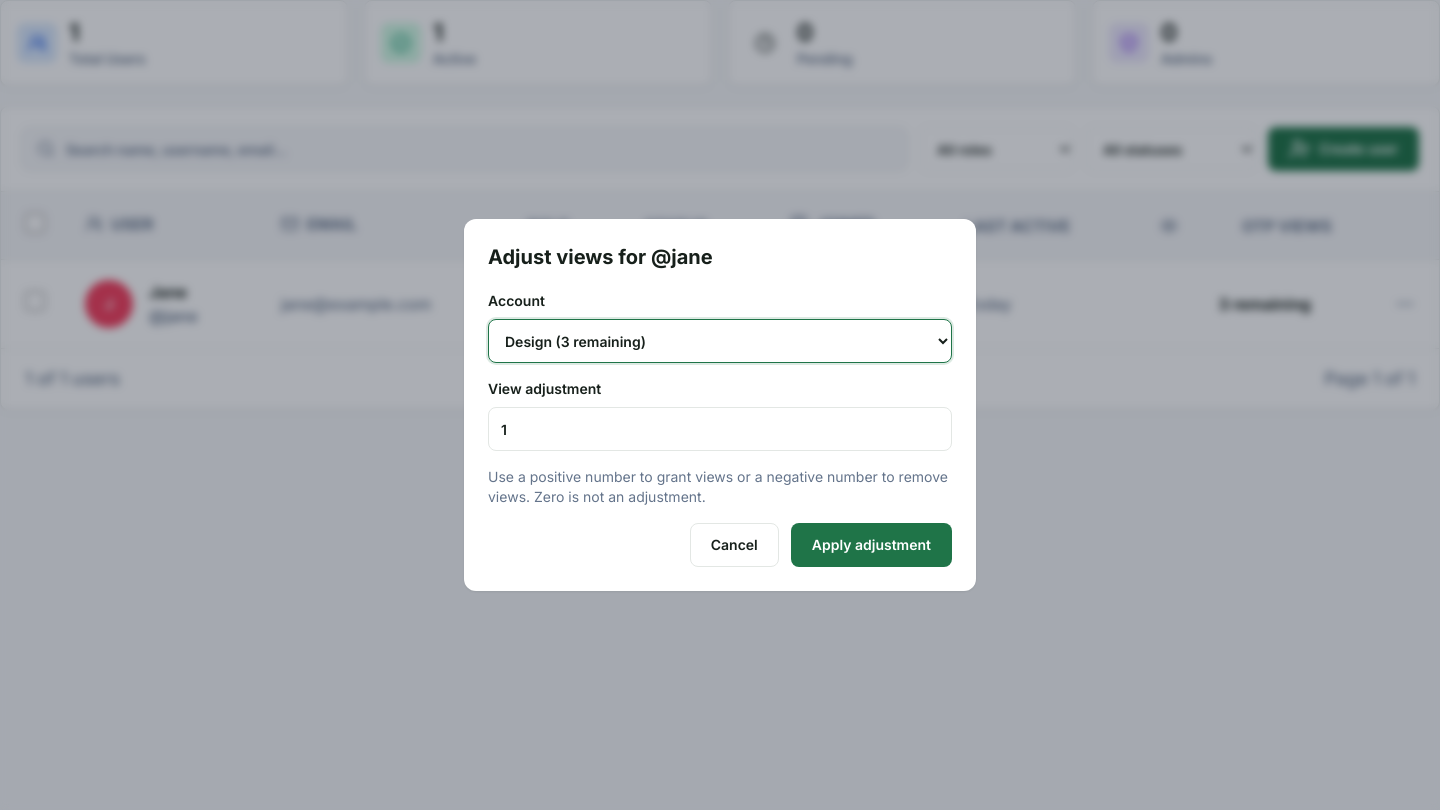
Test: admin workflows › adjusts an account quota from the mobile controls
Earlier steps of the test are not shown.
Select "Finance (0 remaining)" in the dropdown labelled "Account" at x=720, y=341, box x1=488 y1=319 x2=952 y2=363
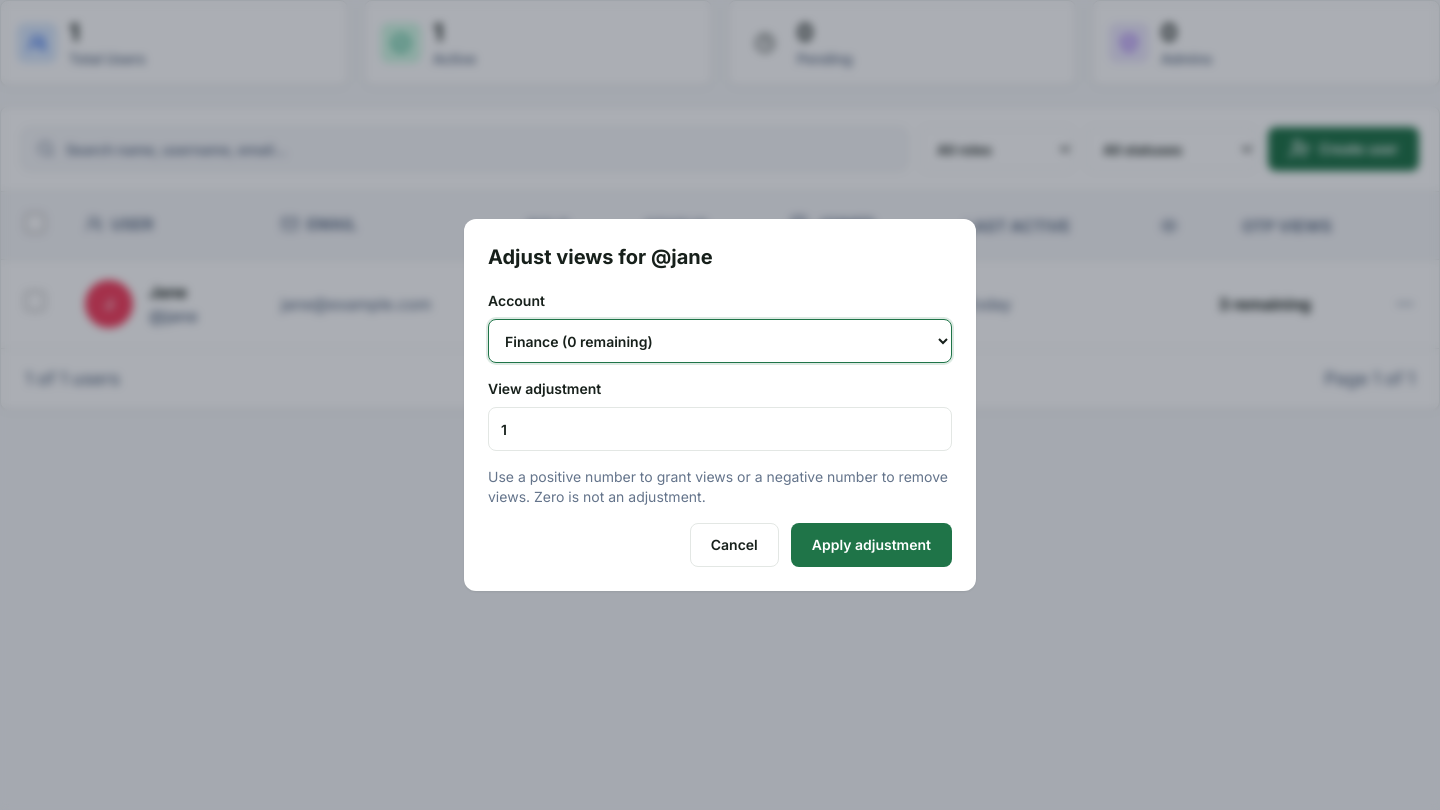
Replace the text in the number field labelled "View adjustment" with "-2" at x=720, y=429, box x1=488 y1=407 x2=952 y2=451
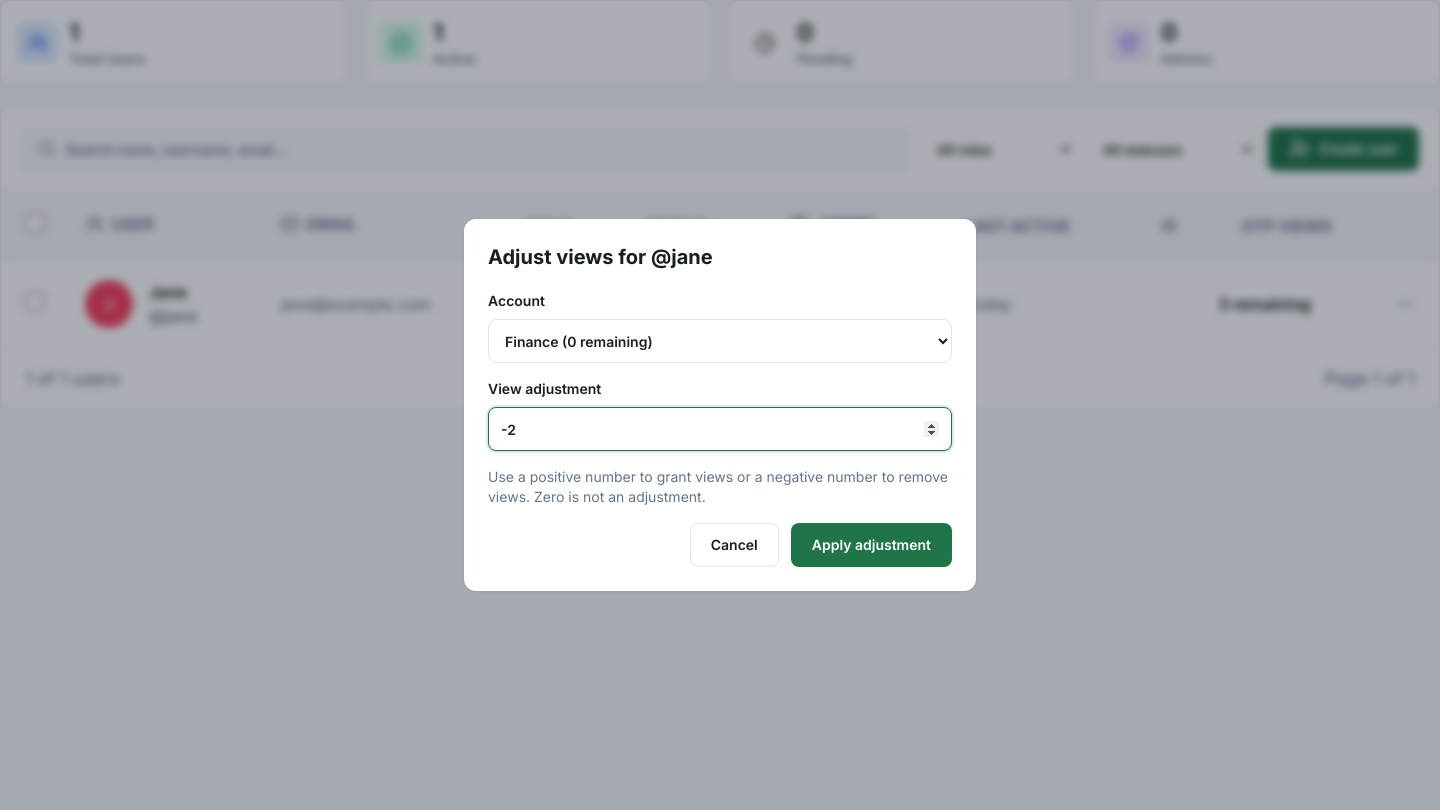
Click the button "Apply adjustment" at x=871, y=545, box x1=791 y1=523 x2=952 y2=567
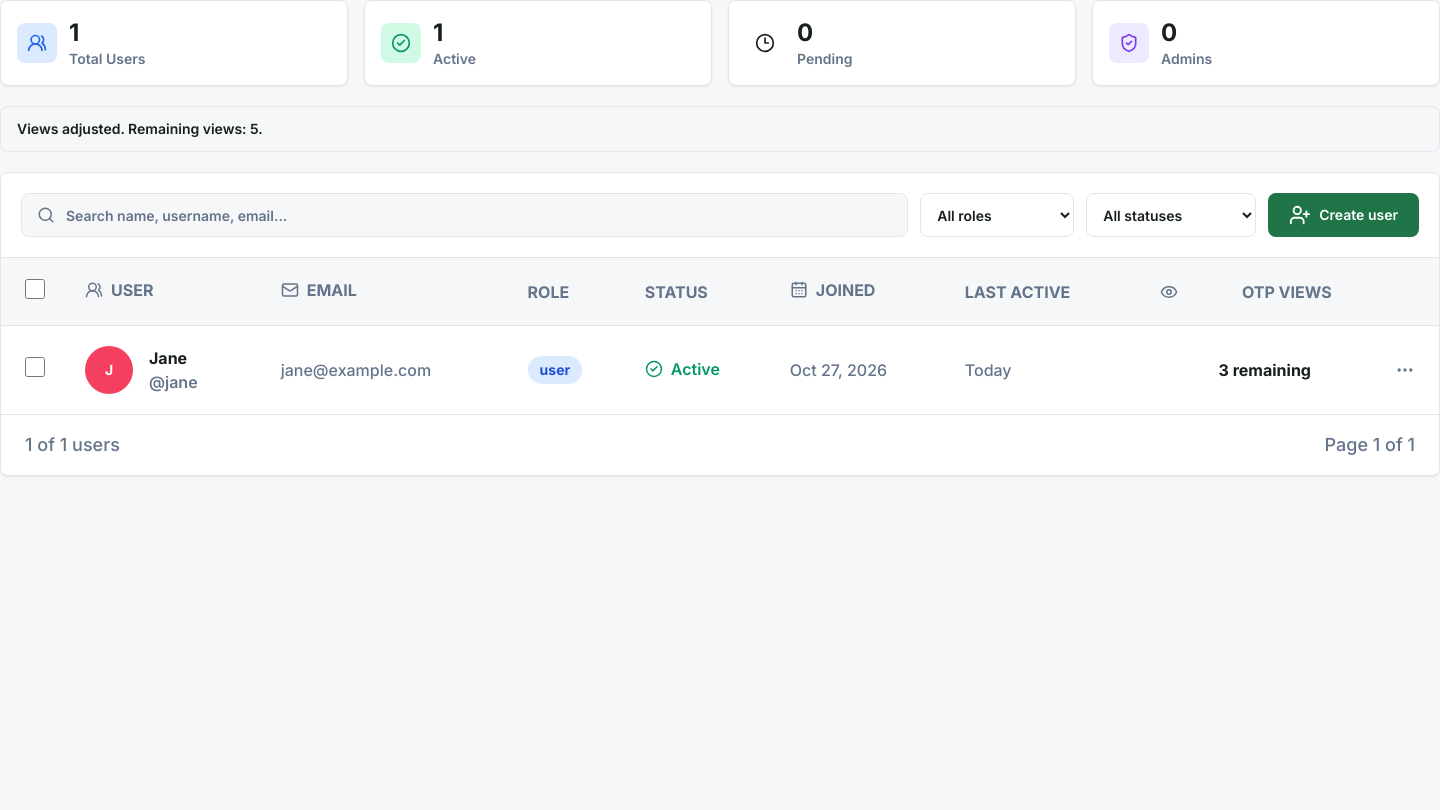
Now the dialog is gone
Now the text "Views adjusted. Remaining views: 5." is shown, box x1=0 y1=106 x2=1439 y2=152
